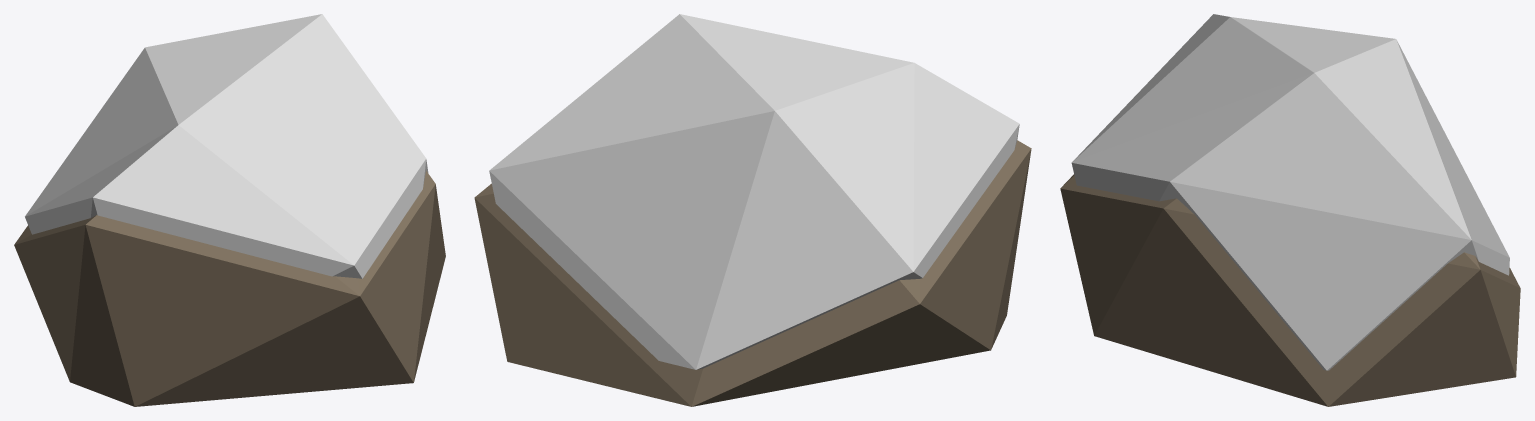
The model's file is Stone_3_snow_brown_mat.fbx.
The picture shows the model from 3 angles, left to right: view 1: azimuth 30°, elevation 25°; view 2: azimuth 150°, elevation 25°; view 3: azimuth 270°, elevation 25°; orthographic projection. The views are drawn at different scales.
Parts seen in each view (by area): view 1: Stone_3_snow_brown_mat; view 2: Stone_3_snow_brown_mat; view 3: Stone_3_snow_brown_mat.
Boxes of the visible parts, x1,y1,x2,y2 form: Stone_3_snow_brown_mat: (14,14,445,406); Stone_3_snow_brown_mat: (474,14,1031,406); Stone_3_snow_brown_mat: (1060,14,1520,406).
Size of the model in its own units: 23.08 by 14.76 by 22.42.
